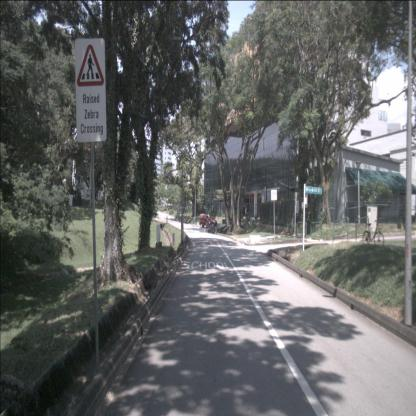vehicle-bicycle: (362, 219, 384, 247)
vehicle-car: (199, 213, 217, 228)
